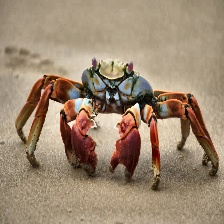crab: (59, 77, 219, 188), (100, 82, 219, 191), (60, 97, 100, 177)
